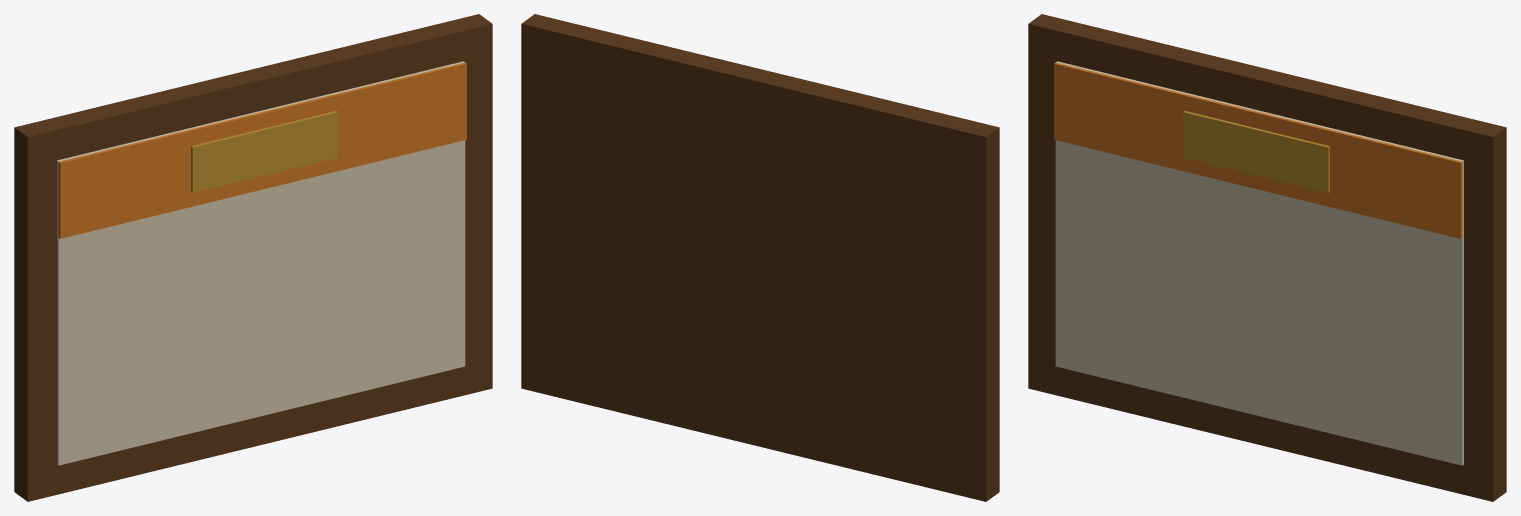
Rendered from ncb-plaque-minigame.glb.
3 views of the same model, side by side, from view 1: azimuth 30°, elevation 25°; view 2: azimuth 150°, elevation 25°; view 3: azimuth 330°, elevation 25° (orthographic).
Visible parts, largest first — view 1: box-prop; view 2: box-prop; view 3: box-prop.
Boxes of the visible parts, <box> form: box-prop: <box>14,14,492,501</box>; box-prop: <box>521,14,999,501</box>; box-prop: <box>1028,14,1506,501</box>.
Size of the model in its own units: 1.6 by 1.2 by 0.11.
